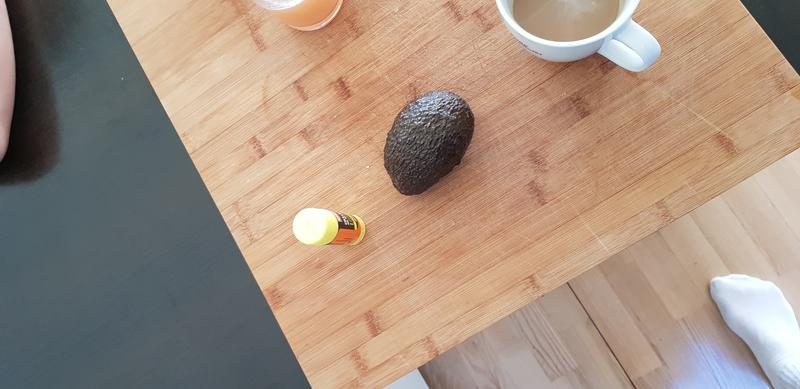Avocado: (378, 89, 479, 207)
Glue-Stick: (282, 202, 376, 252)
